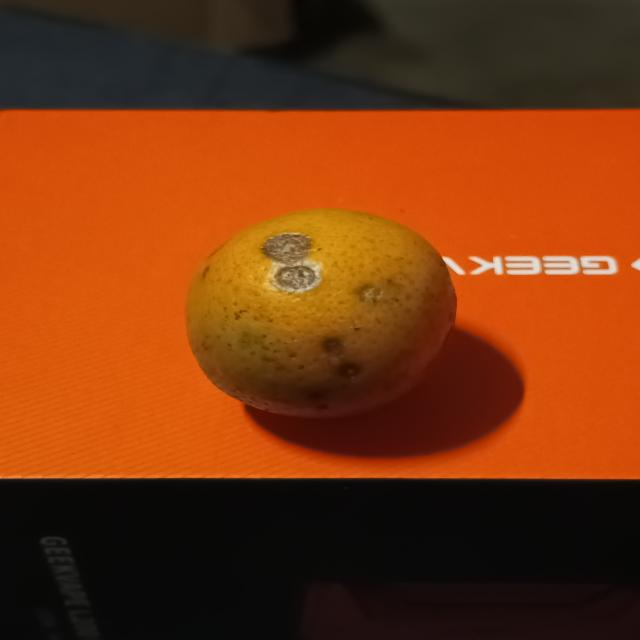black spot: (178, 200, 468, 424)
